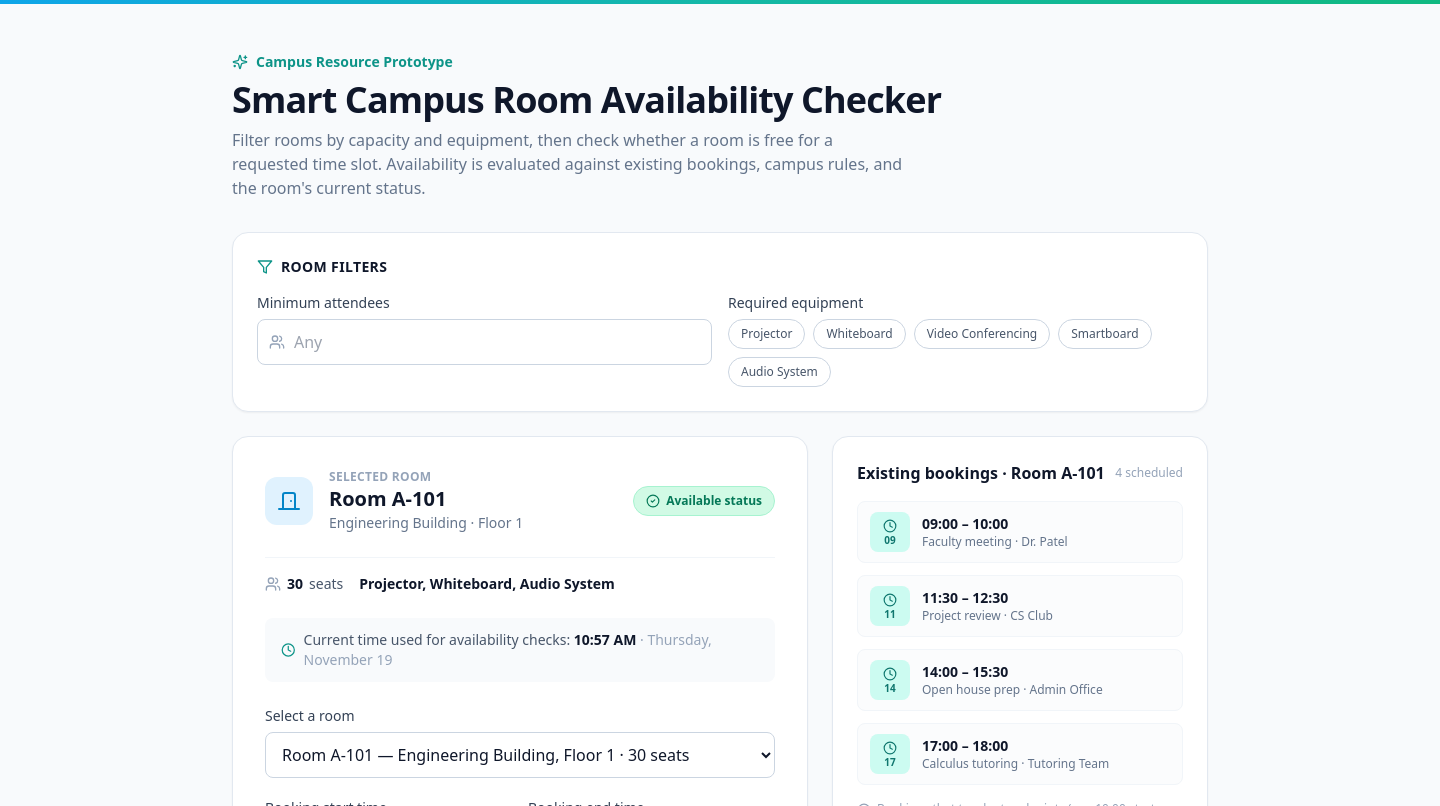
Test: App integration — filtering and F5 auto-selection › filters rooms by capacity and equipment, excludes blocked rooms, and auto-selects the first match
This screenshot has width=1440, height=806.
Expected: the dropdown labelled "Select a room" shows "Room A-101 — Engineering Building, Floor 1 · 30 seats", left=265, top=732, right=775, bottom=778
Note: Set capacity filter to 40 — only b-201 and d-110 qualify by capacity.
Type "40" into the number field labelled "Minimum attendees" at x=484, y=342, box left=257, top=319, right=712, bottom=365
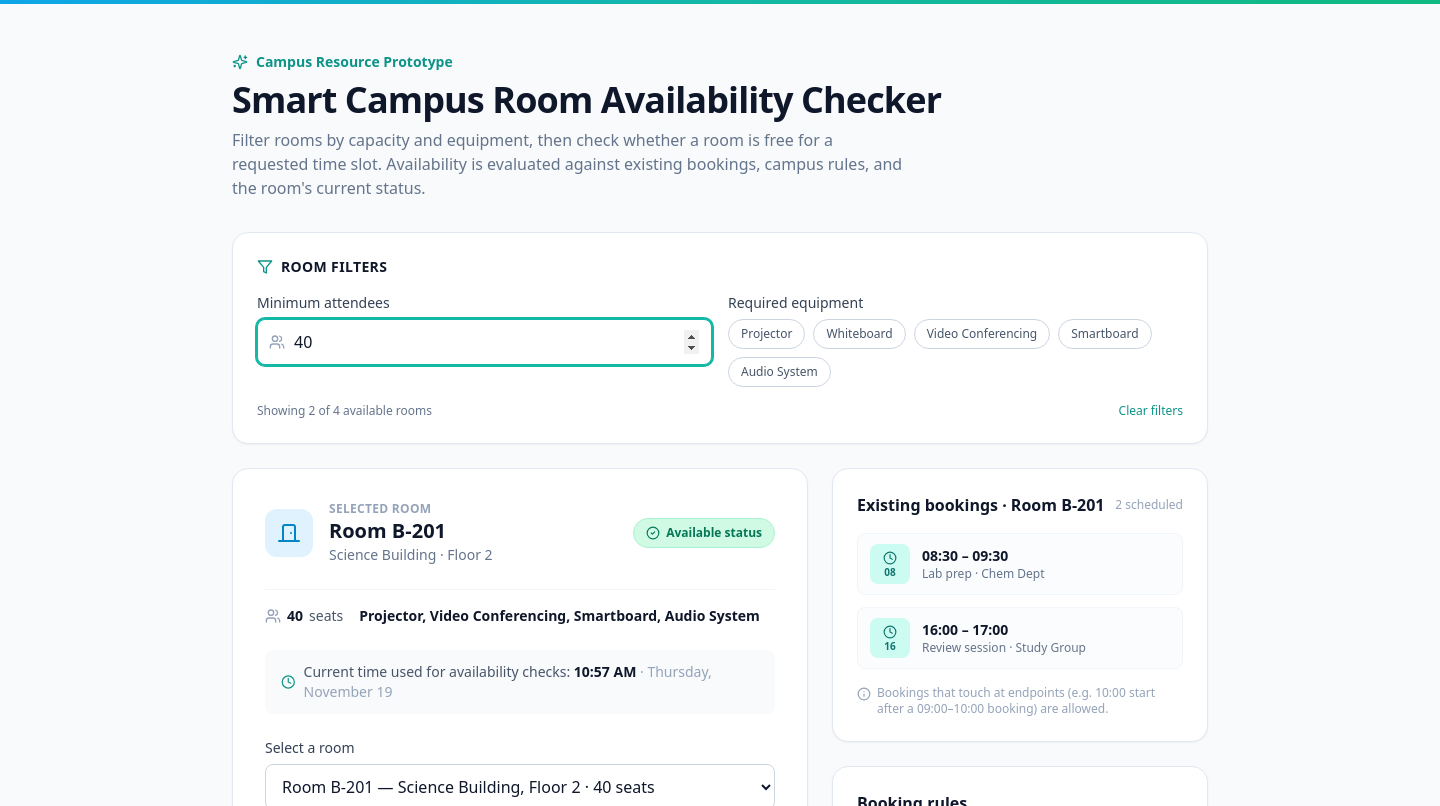
Note: Now require "Smartboard" equipment — only b-201 has it among the capacity matches.
Click the button "Smartboard" at x=1105, y=334, box left=1058, top=319, right=1152, bottom=349
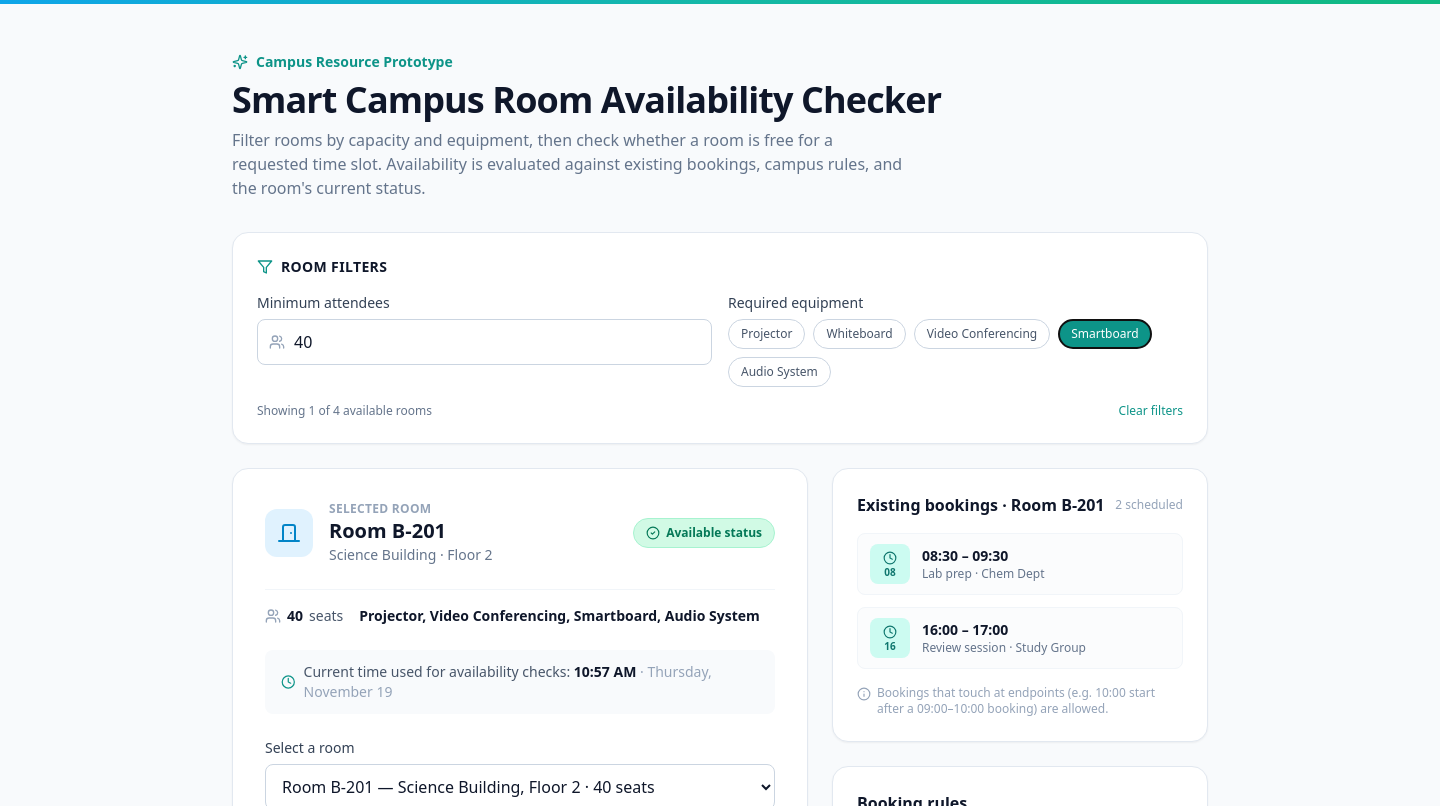
Note: Now increase capacity to 45 — b-201 (capacity 40) is excluded, d-110 (50) is the only match.
Replace the text in the number field labelled "Minimum attendees" with "45" at x=484, y=342, box left=257, top=319, right=712, bottom=365
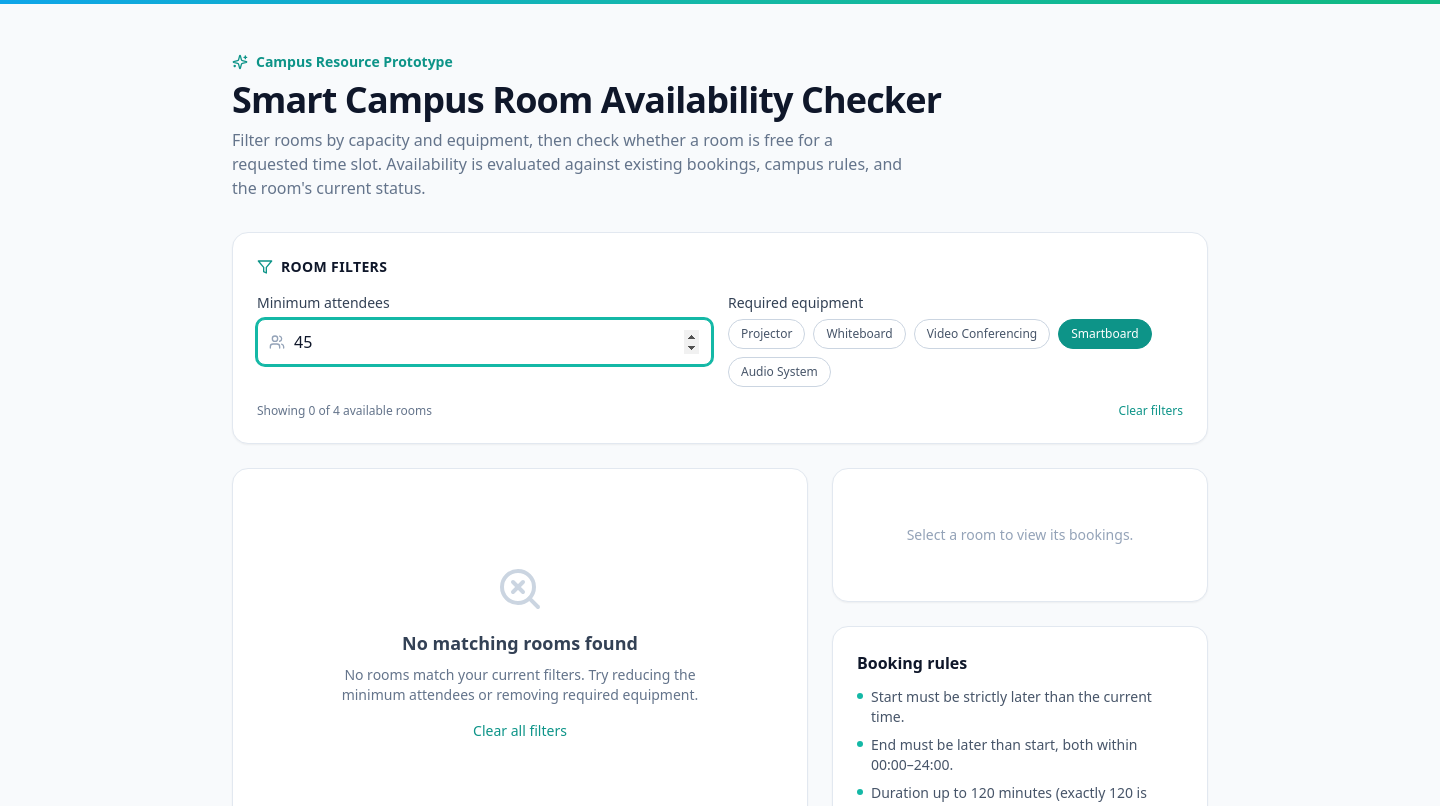
Now the heading "No matching rooms found" is shown, box left=402, top=629, right=638, bottom=657
Note: Remove Smartboard requirement.
Click the button "Smartboard" at x=1105, y=334, box left=1058, top=319, right=1152, bottom=349
(page scrolled)
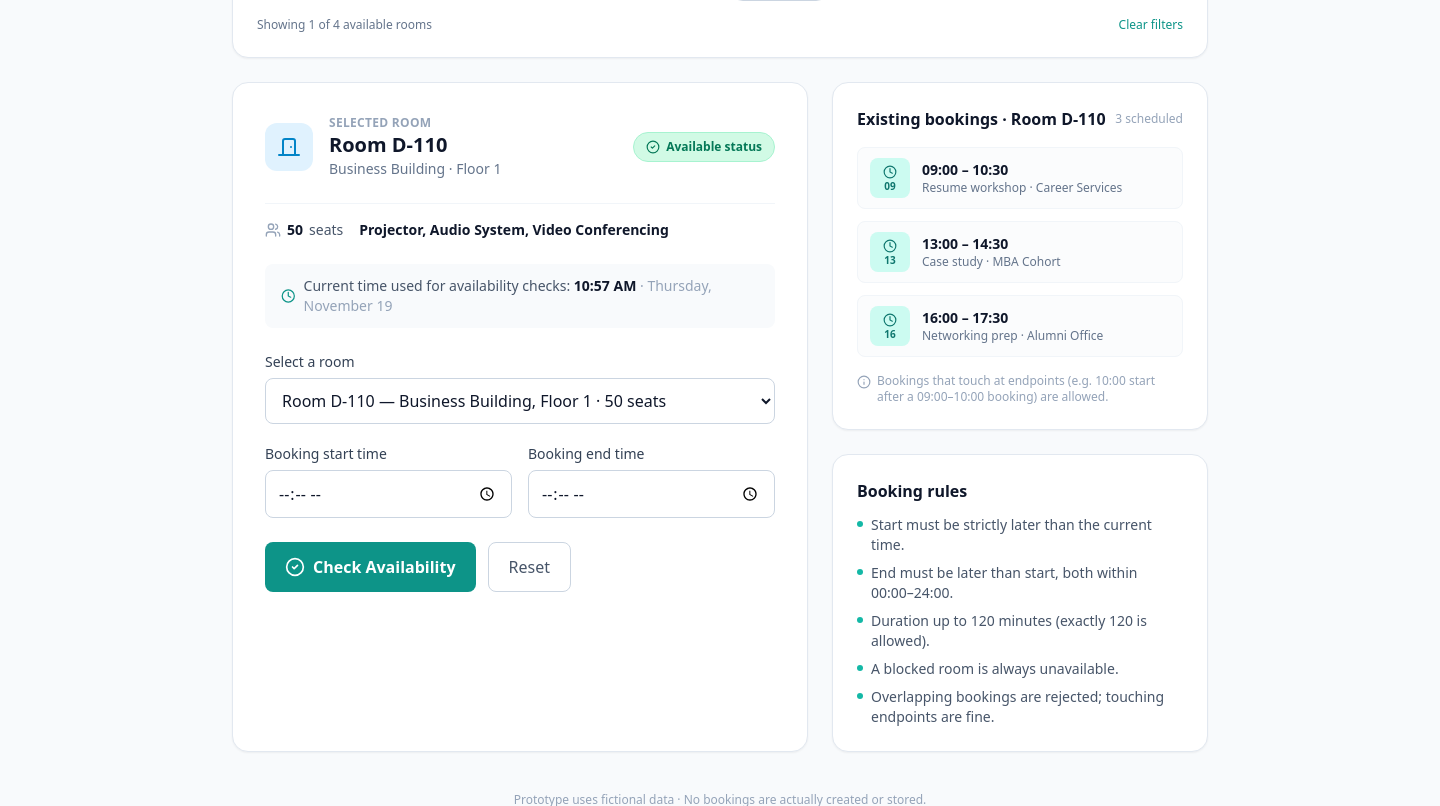
Now the dropdown labelled "Select a room" shows "Room D-110 — Business Building, Floor 1 · 50 seats", box left=265, top=378, right=775, bottom=424
